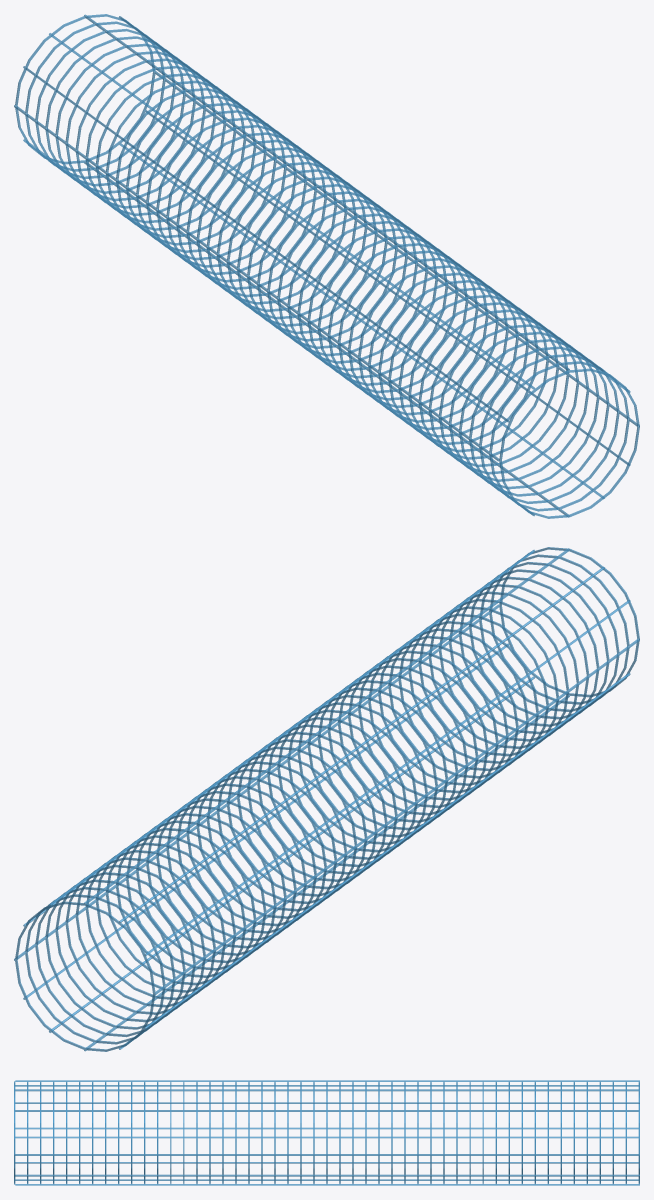
File: tinker.gltf
3 views of the same model, one above another, from view 1: azimuth 30°, elevation 25°; view 2: azimuth 150°, elevation 25°; view 3: azimuth 270°, elevation 25° (orthographic). The views are drawn at different scales.
Parts seen in each view (by area): view 1: node-0; view 2: node-0; view 3: node-0.
Boxes of the visible parts, bbox=[...] form: node-0: bbox=[14, 14, 639, 518]; node-0: bbox=[14, 547, 639, 1051]; node-0: bbox=[14, 1080, 639, 1185].
Size of the model in its own units: 81 by 81 by 481.
